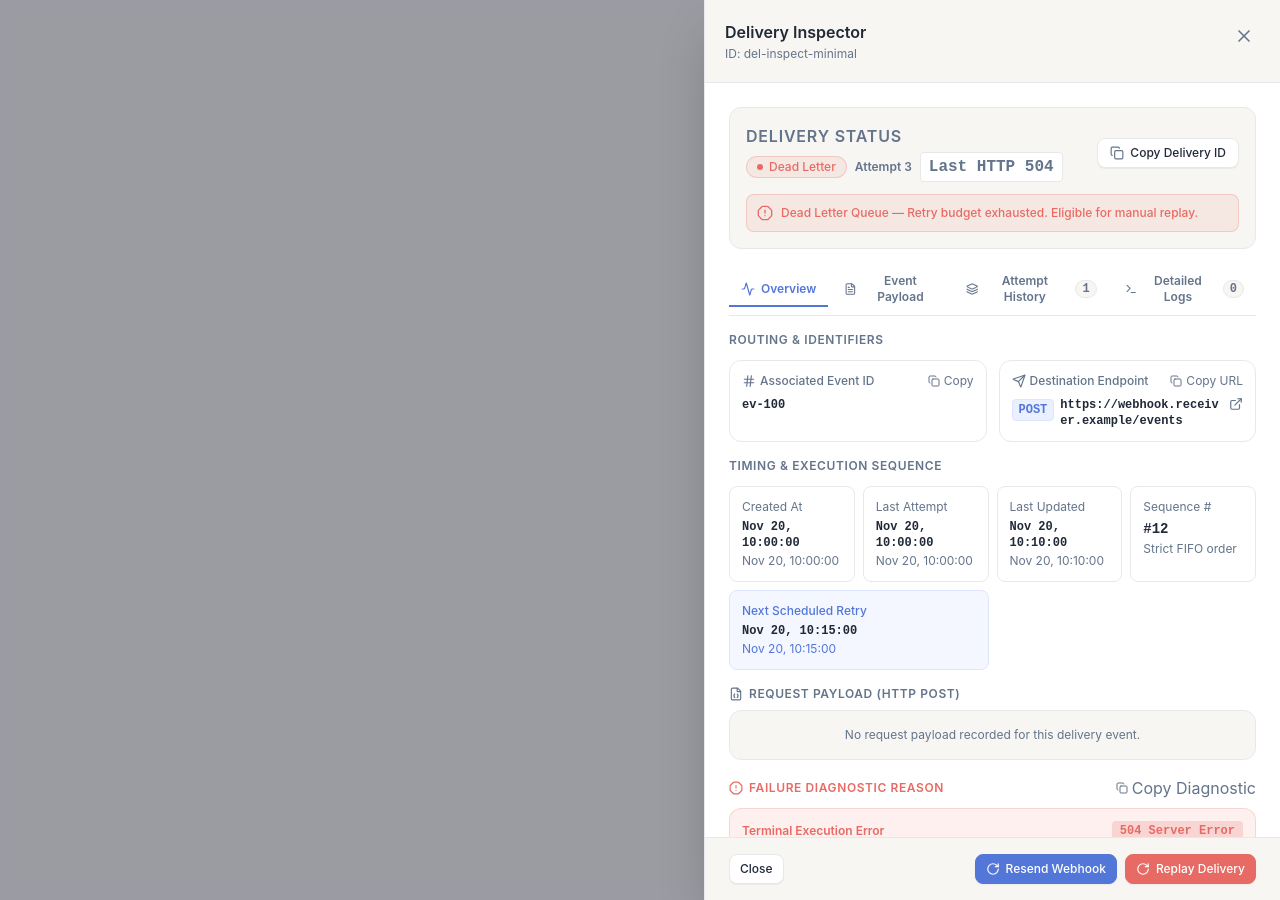
Test: Tanvi's Phase 2 Task: Delivery Inspector & Resend Flow (Frontend) › 1. DeliveryDetailDrawer: Metadata Inspection › handles attempts with missing request headers, response headers, or body gracefully
This screenshot has width=1280, height=900.
Click the button "Attempt History 1" at (1031, 290), box [954, 265, 1109, 315]
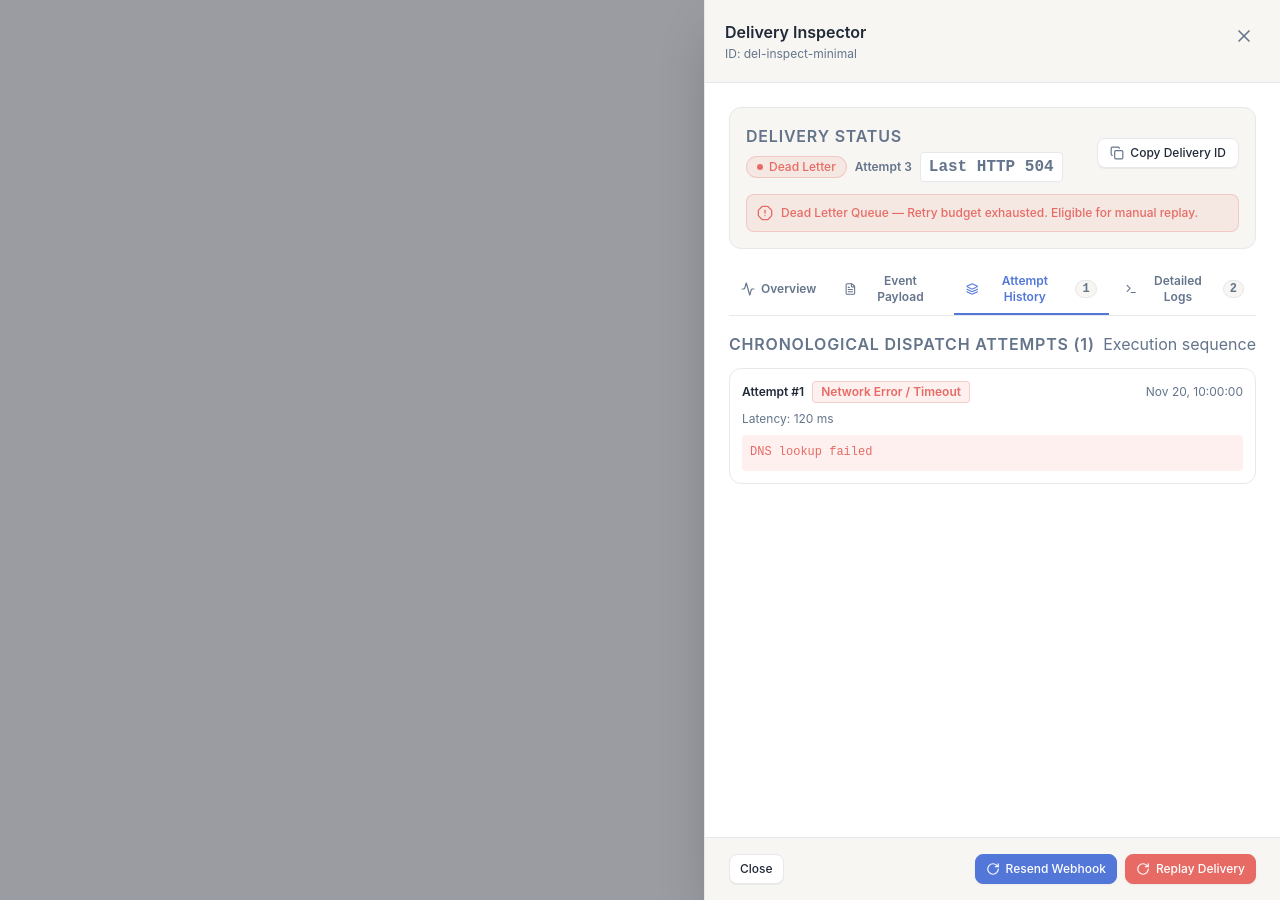
Result: the text "Attempt #1" is shown at [742, 384, 804, 400]
Result: the text "DNS lookup failed" is shown at [742, 435, 1243, 470]
